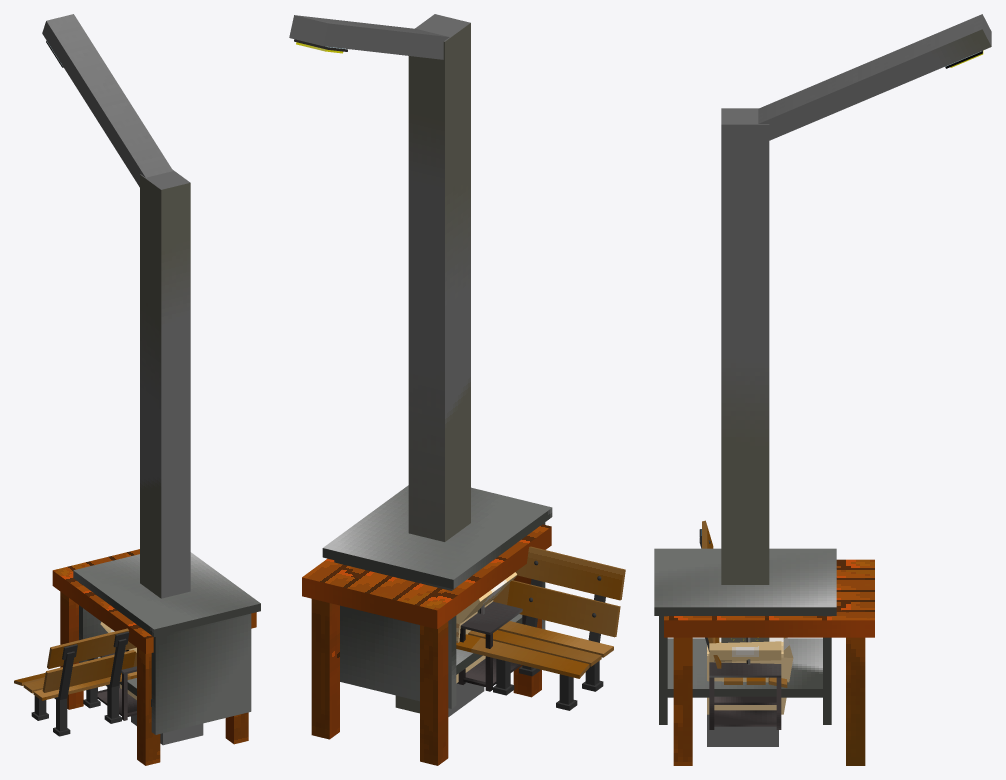
File: Wall.gltf
3 renders of one model, left to right at view 1: azimuth 30°, elevation 25°; view 2: azimuth 150°, elevation 25°; view 3: azimuth 270°, elevation 25°, orthographic. The views are drawn at different scales.
Visible parts, largest first — view 1: เสาไฟ, shelf, cuboid, bench, Receiving table; view 2: เสาไฟ, shelf, cuboid, bench, Receiving table, open_BOX; view 3: เสาไฟ, shelf, cuboid, Receiving table, open_BOX, BOX4, bench_Nod.
Boxes of the visible parts, x1=… form: เสาไฟ: x1=42, y1=14, x2=203, y2=745; shelf: x1=73, y1=552, x2=260, y2=734; cuboid: x1=52, y1=549, x2=256, y2=765; bench: x1=14, y1=628, x2=136, y2=736; Receiving table: x1=92, y1=651, x2=136, y2=720; เสาไฟ: x1=289, y1=14, x2=484, y2=716; shelf: x1=322, y1=485, x2=552, y2=708; cuboid: x1=302, y1=524, x2=551, y2=765; bench: x1=471, y1=546, x2=625, y2=710; Receiving table: x1=458, y1=601, x2=526, y2=691; open_BOX: x1=456, y1=572, x2=517, y2=623; เสาไฟ: x1=707, y1=14, x2=991, y2=746; shelf: x1=654, y1=548, x2=836, y2=724; cuboid: x1=664, y1=559, x2=874, y2=765; Receiving table: x1=709, y1=662, x2=781, y2=729; open_BOX: x1=709, y1=641, x2=781, y2=662; BOX4: x1=707, y1=637, x2=793, y2=714; bench_Nod: x1=705, y1=637, x2=787, y2=687.
Size of the model in its own units: 3.22 by 10.3 by 4.4.
20 materials, 20 textured.
